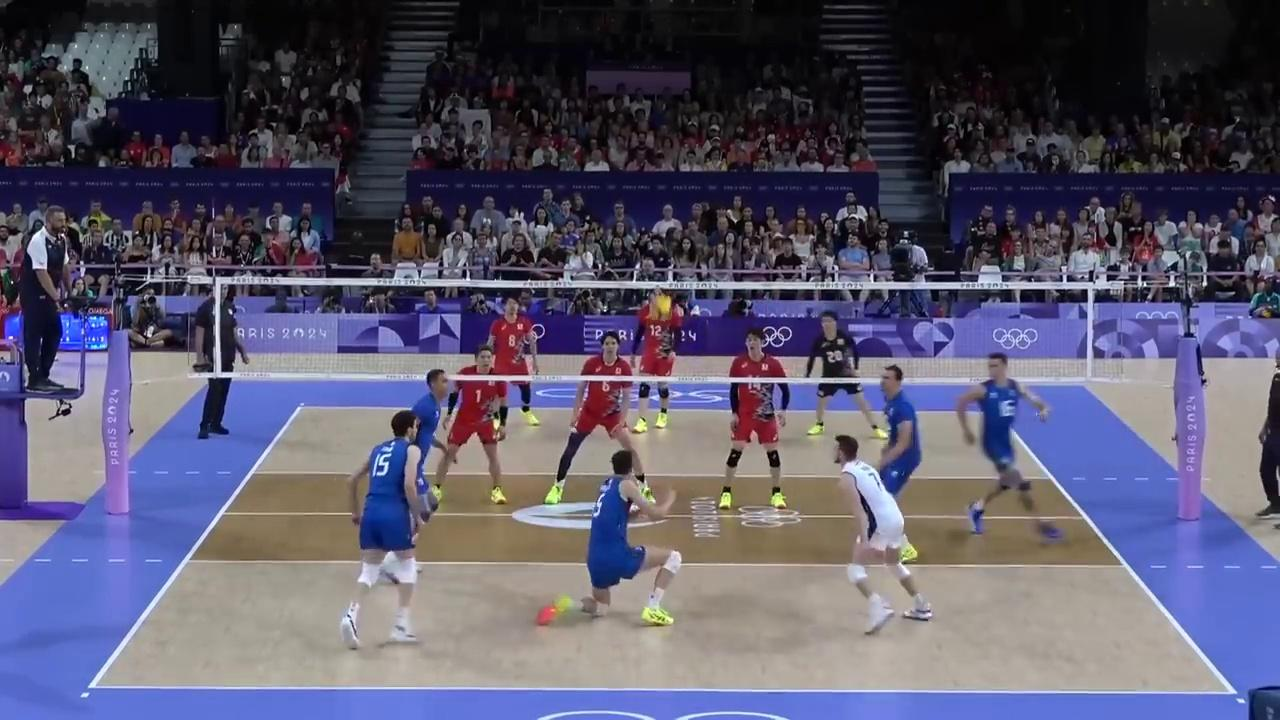ball: (650, 292, 670, 320)
